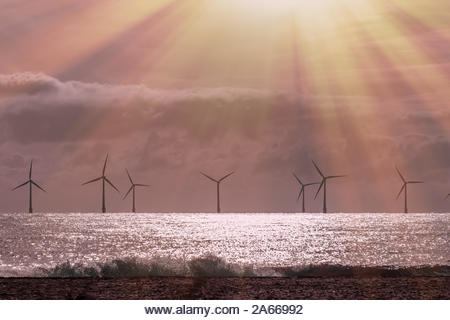working: (82, 153, 122, 202), (309, 159, 348, 203), (198, 166, 239, 206)
